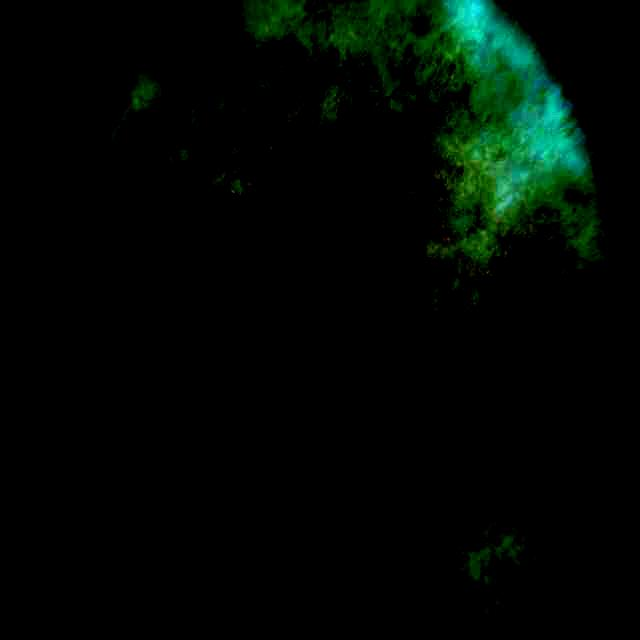MEL: (41, 4, 583, 638)
